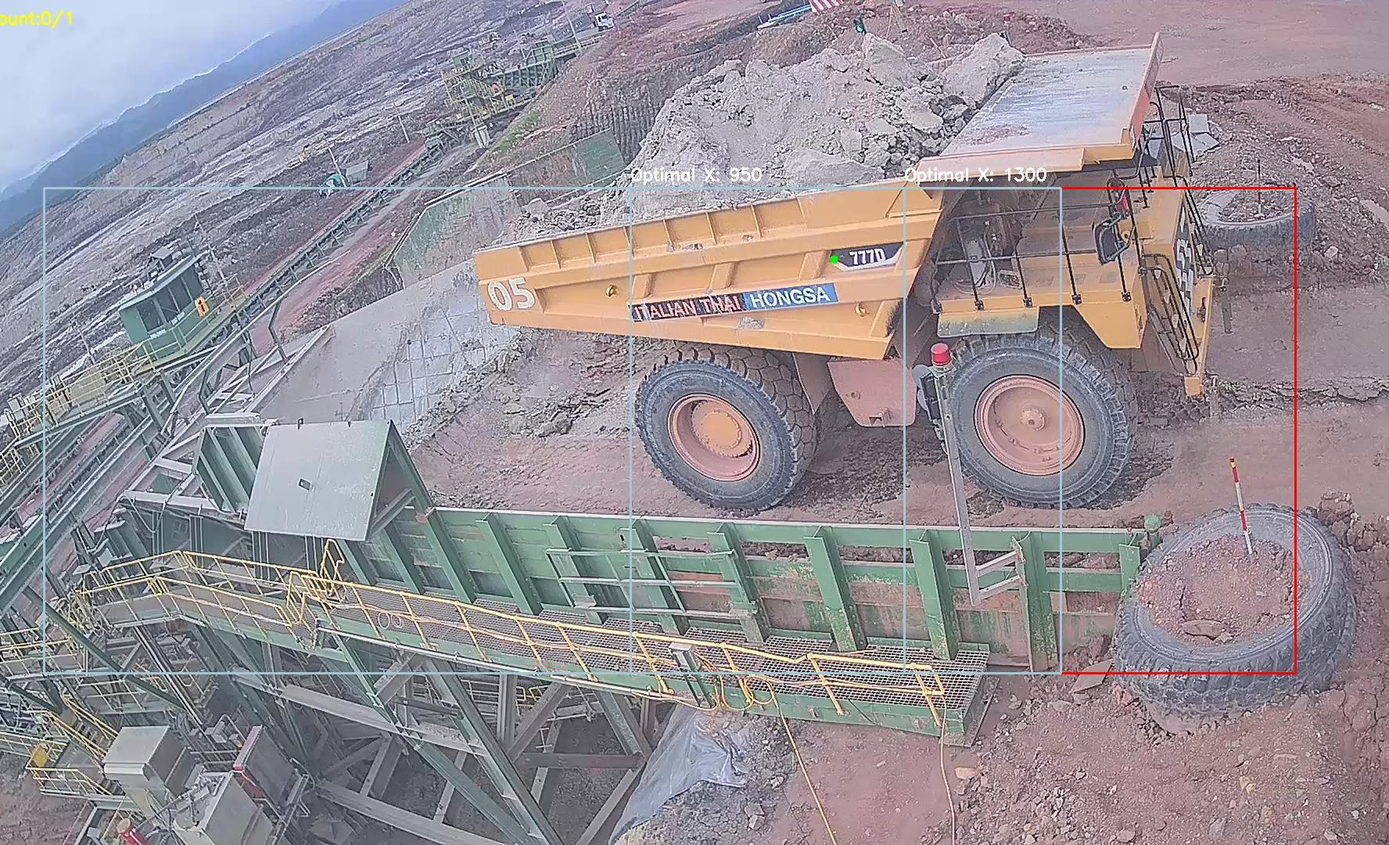company: (622, 285, 839, 323)
full_load: (640, 32, 930, 197)
mining_truck: (458, 18, 1239, 514)
tail_number: (479, 262, 541, 322)
truck_size: (826, 234, 904, 275)
